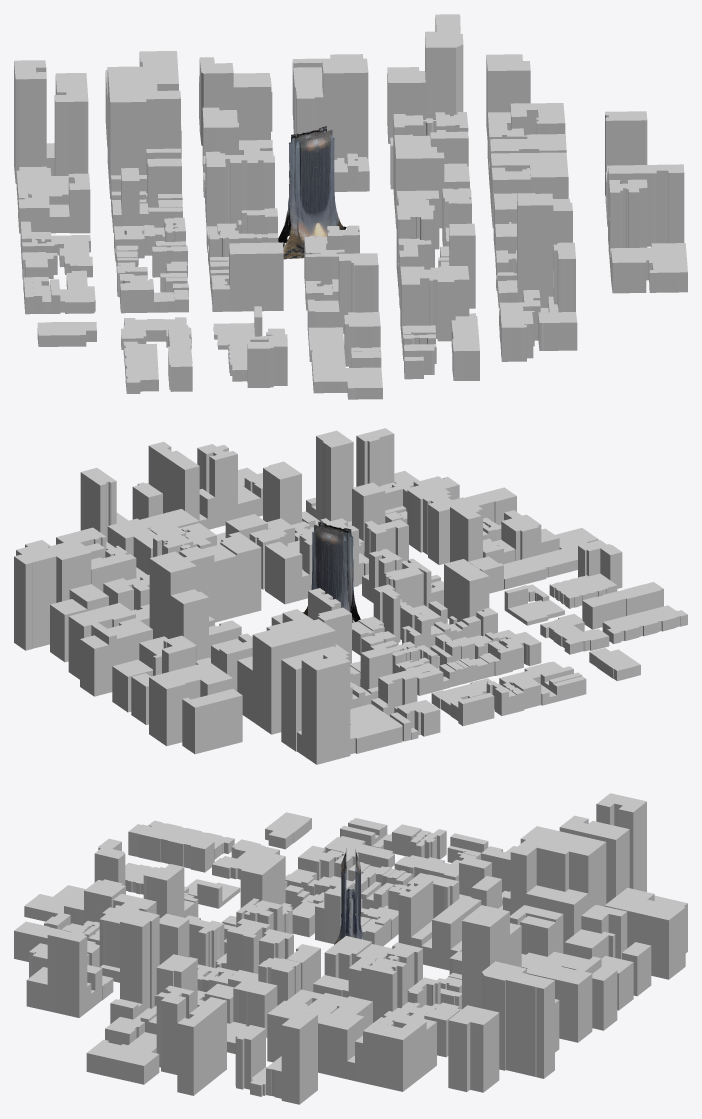
3 views of the same model, one above another, from view 1: azimuth 30°, elevation 25°; view 2: azimuth 150°, elevation 25°; view 3: azimuth 270°, elevation 25° (orthographic). The views are drawn at different scales.
Parts seen in each view (by area): view 1: world, example_image.glb; view 2: world, example_image.glb; view 3: world, example_image.glb.
Boxes of the visible parts, <box> form: world: <box>14,14,687,399</box>; example_image.glb: <box>278,126,346,259</box>; world: <box>14,428,687,764</box>; example_image.glb: <box>302,521,360,622</box>; world: <box>14,793,687,1104</box>; example_image.glb: <box>334,848,364,944</box>.
Size of the model in its own units: 5636 by 1003 by 5698.
Materials: 1 (1 with a texture image).
